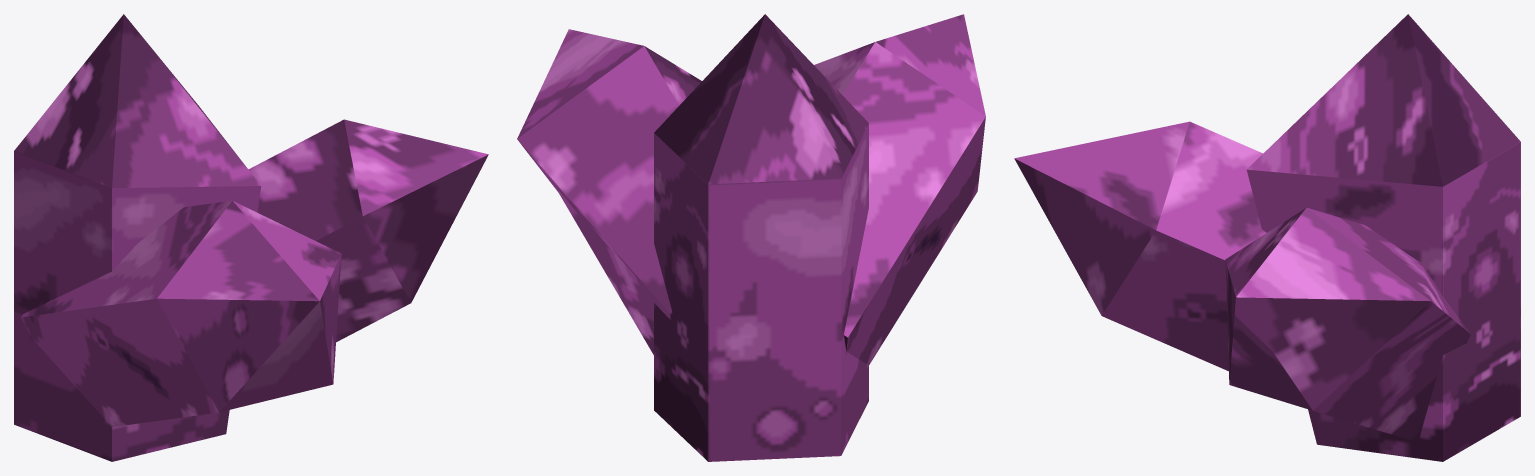
The model's file is crystal 2.fbx.
3 renders of one model, left to right at view 1: azimuth 30°, elevation 25°; view 2: azimuth 150°, elevation 25°; view 3: azimuth 270°, elevation 25°, orthographic.
Parts seen in each view (by area): view 1: Cylinder.009; view 2: Cylinder.009; view 3: Cylinder.009.
Boxes of the visible parts, box(x1,y1,x2,y2) form: Cylinder.009: box(14, 14, 488, 461); Cylinder.009: box(517, 14, 985, 461); Cylinder.009: box(1014, 14, 1520, 461).
Size of the model in its own units: 612 by 631 by 720.
